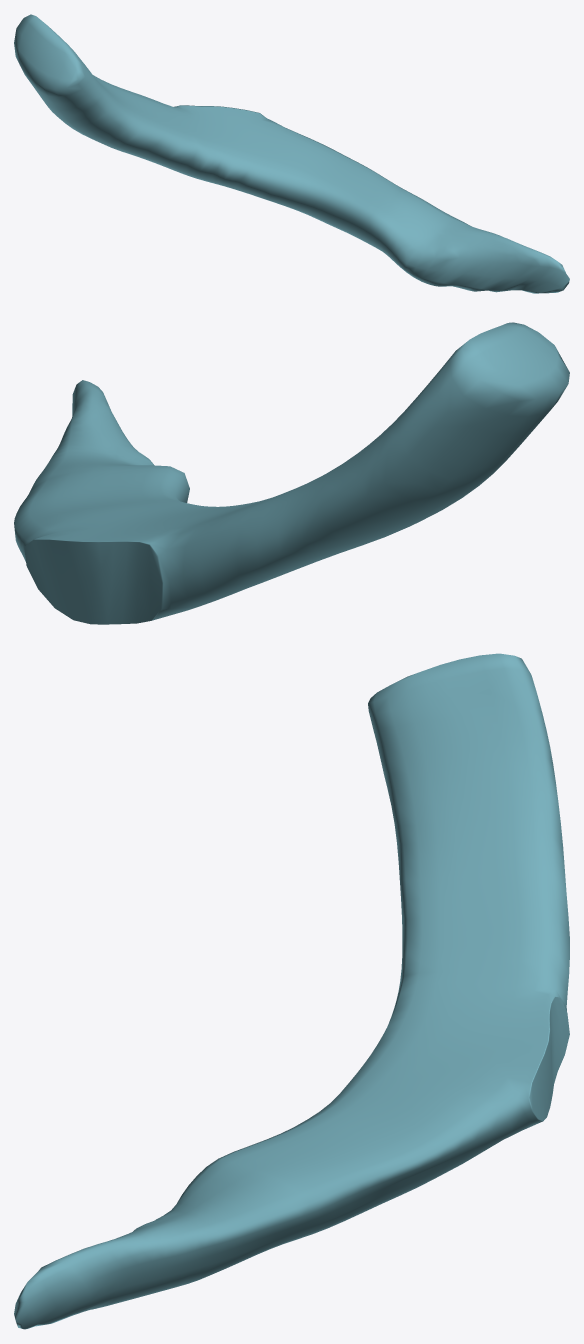
3 views of the same model, one above another, from view 1: azimuth 30°, elevation 25°; view 2: azimuth 150°, elevation 25°; view 3: azimuth 270°, elevation 25° (orthographic). The views are drawn at different scales.
Parts seen in each view (by area): view 1: 右侧第八肋软骨; view 2: 右侧第八肋软骨; view 3: 右侧第八肋软骨.
Part boxes in pixels (left/top/right/bottom): 右侧第八肋软骨: left=14, top=14, right=569, bottom=293; 右侧第八肋软骨: left=14, top=322, right=569, bottom=624; 右侧第八肋软骨: left=14, top=653, right=569, bottom=1329.
Size of the model in its own units: 0.1201 by 0.0739 by 0.0918.
